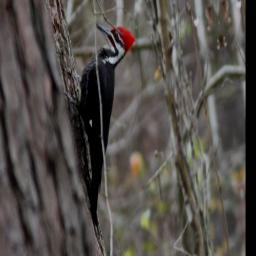Woodpecker: (56, 9, 161, 241)
